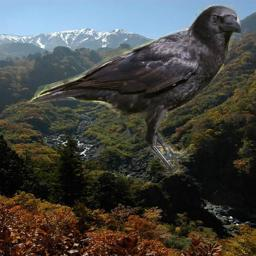Crow: (24, 4, 241, 176)
